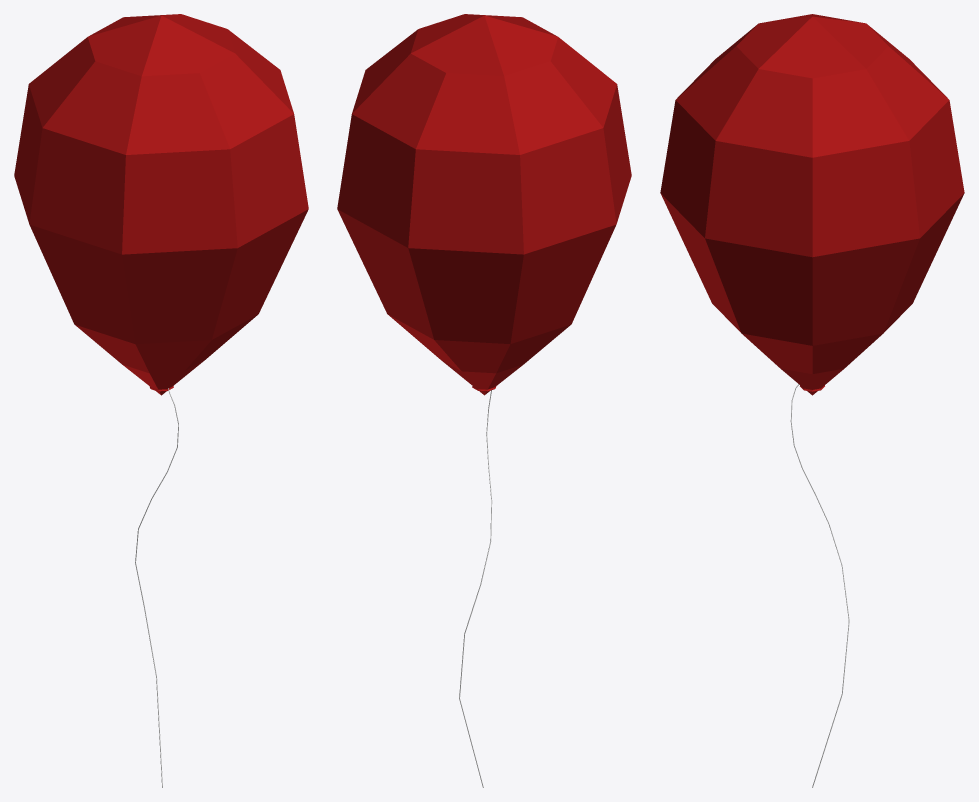
File: sm_balloon_low.fbx
The picture shows the model from 3 angles, left to right: view 1: azimuth 30°, elevation 25°; view 2: azimuth 150°, elevation 25°; view 3: azimuth 270°, elevation 25°; orthographic projection.
Visible parts, largest first — view 1: balloonBody1; view 2: balloonBody1; view 3: balloonBody1.
Part boxes in pixels (left/top/right/bottom): balloonBody1: left=14, top=14, right=308, bottom=787; balloonBody1: left=337, top=14, right=631, bottom=787; balloonBody1: left=660, top=14, right=964, bottom=787.
Bounding box in the file's own units: 182 × 508 × 182.
